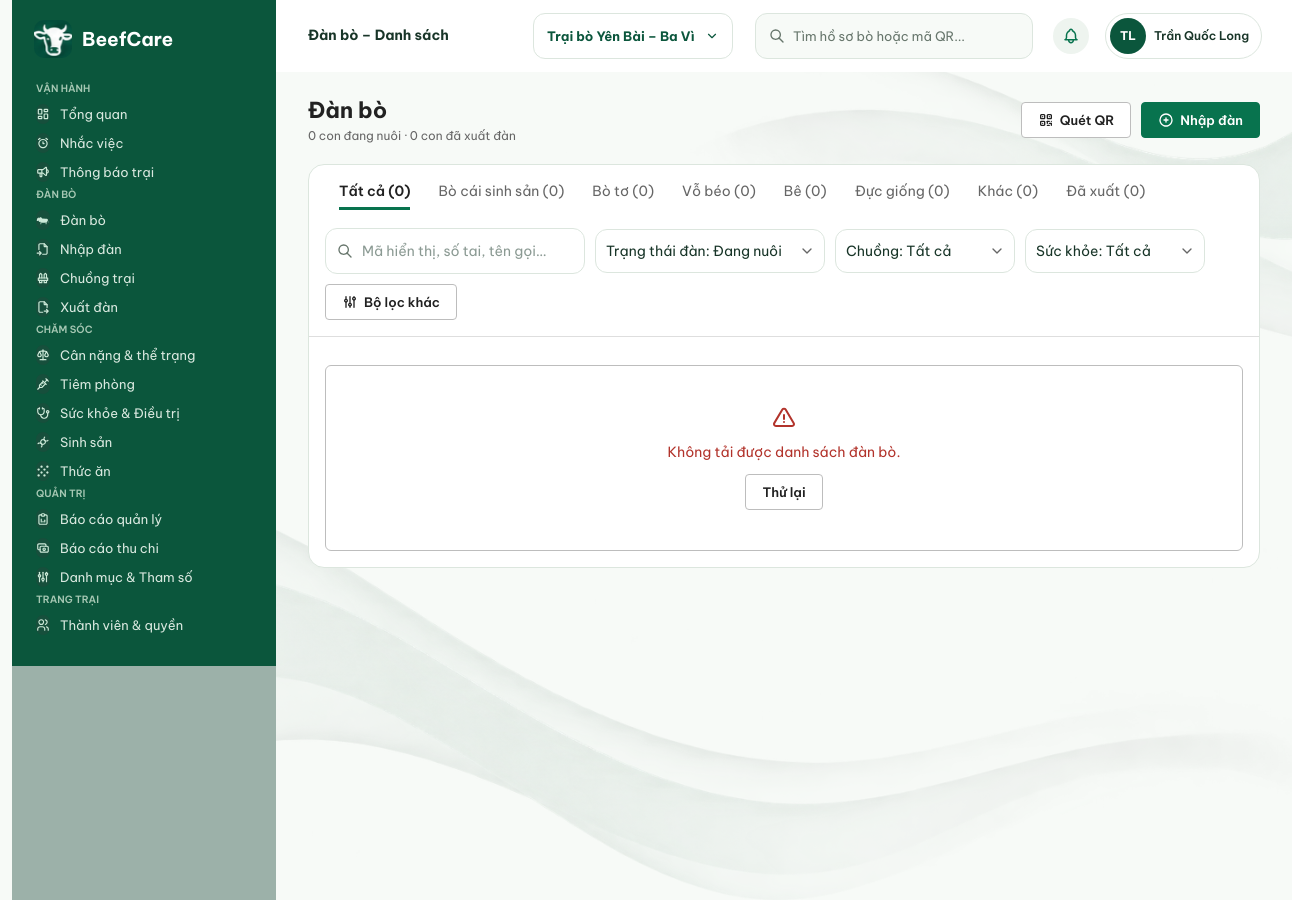
Cattle backend errors › renders a list retry action after a backend 500 and recovers on retry
The width and height of the screenshot is (1292, 900).
Expected: the text "Không tải được danh sách đàn bò." is shown, [668,442,900,462]
Click the button "Thử lại" at (784, 492), box [745,474,823,510]
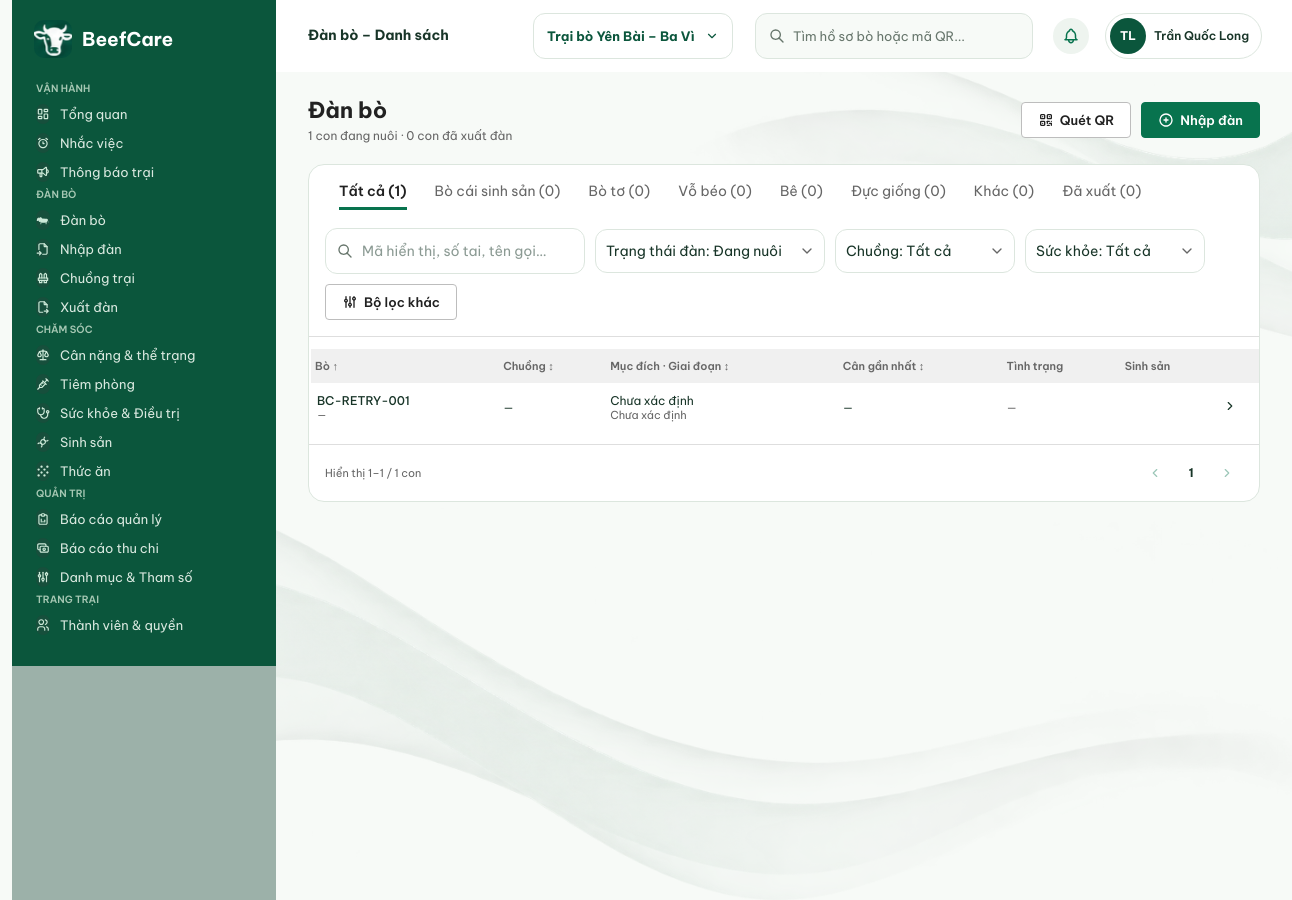
Expected: the text "BC-RETRY-001" is shown, [317,393,410,408]
